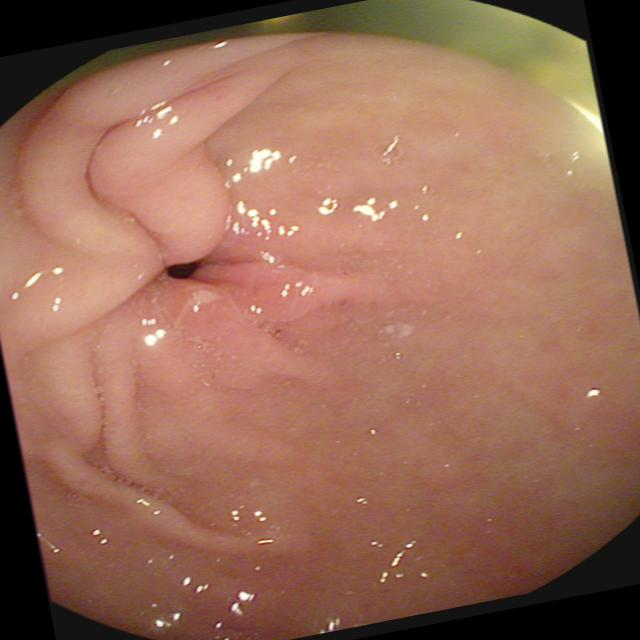normal-pylorus: (0, 31, 379, 505)
